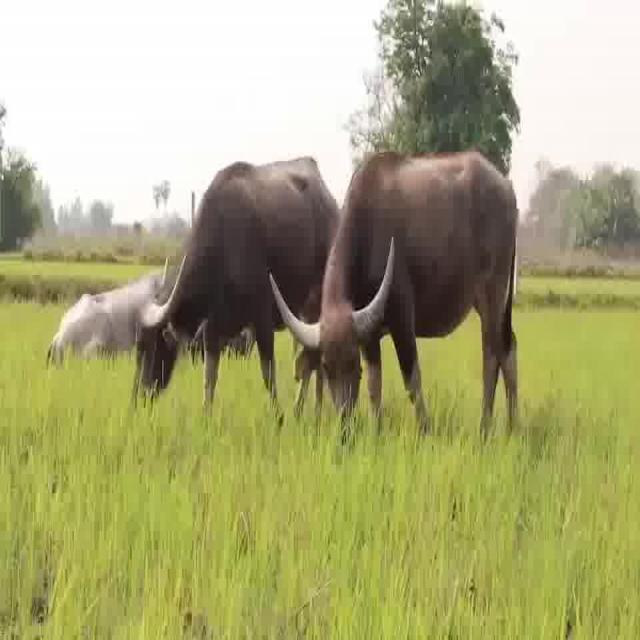buffalo: (306, 150, 541, 430), (120, 141, 332, 416), (48, 256, 182, 380)
